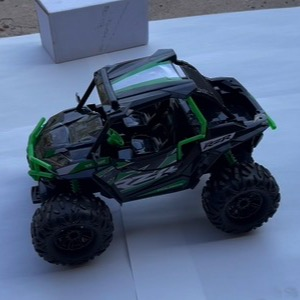polaris: (25, 49, 282, 270)
